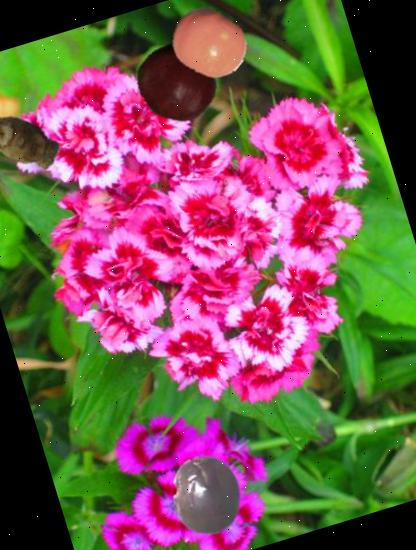Clementine: (163, 0, 258, 89)
Ginger: (0, 90, 71, 191)
Passion: (156, 443, 257, 544)
Pomegranate: (127, 29, 230, 131)
